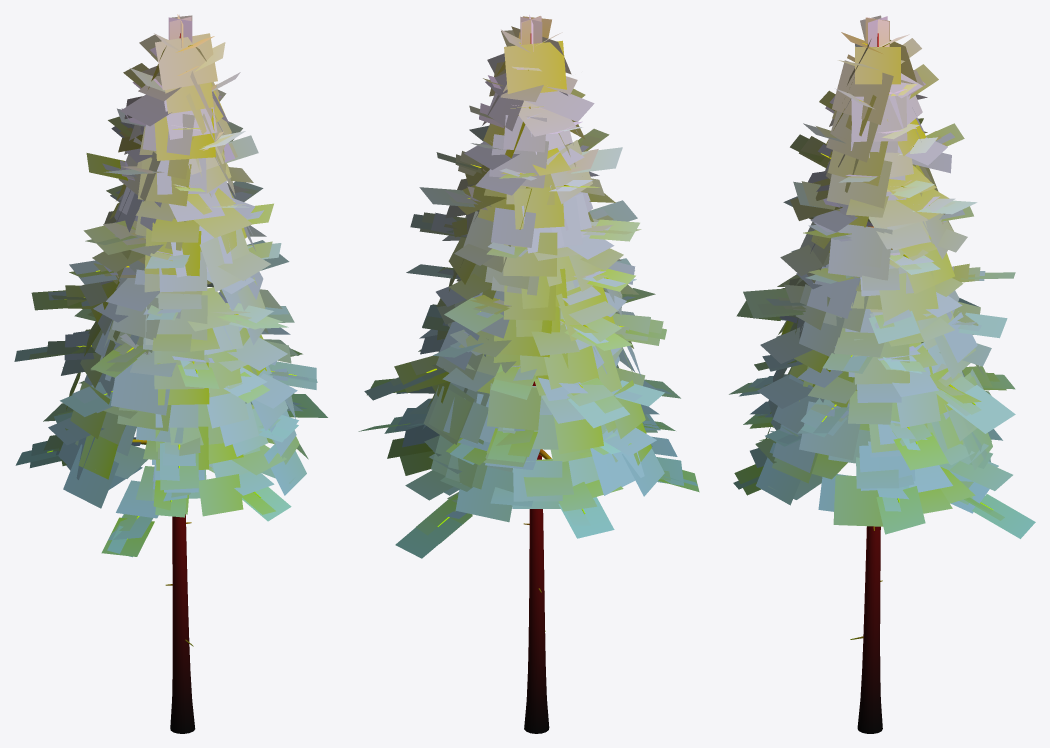
The model's file is hinoki_3.glb.
3 views of the same model, side by side, from view 1: azimuth 30°, elevation 25°; view 2: azimuth 150°, elevation 25°; view 3: azimuth 270°, elevation 25° (orthographic).
Visible parts, largest first — view 1: hinoki_3_lod0; view 2: hinoki_3_lod0; view 3: hinoki_3_lod0.
Part boxes in pixels (bbox=[...]): hinoki_3_lod0: bbox=[14, 14, 327, 733]; hinoki_3_lod0: bbox=[358, 15, 699, 733]; hinoki_3_lod0: bbox=[729, 15, 1035, 733].
Size of what is drawn, in the model's own units: 8.19 by 19.47 by 7.64.
